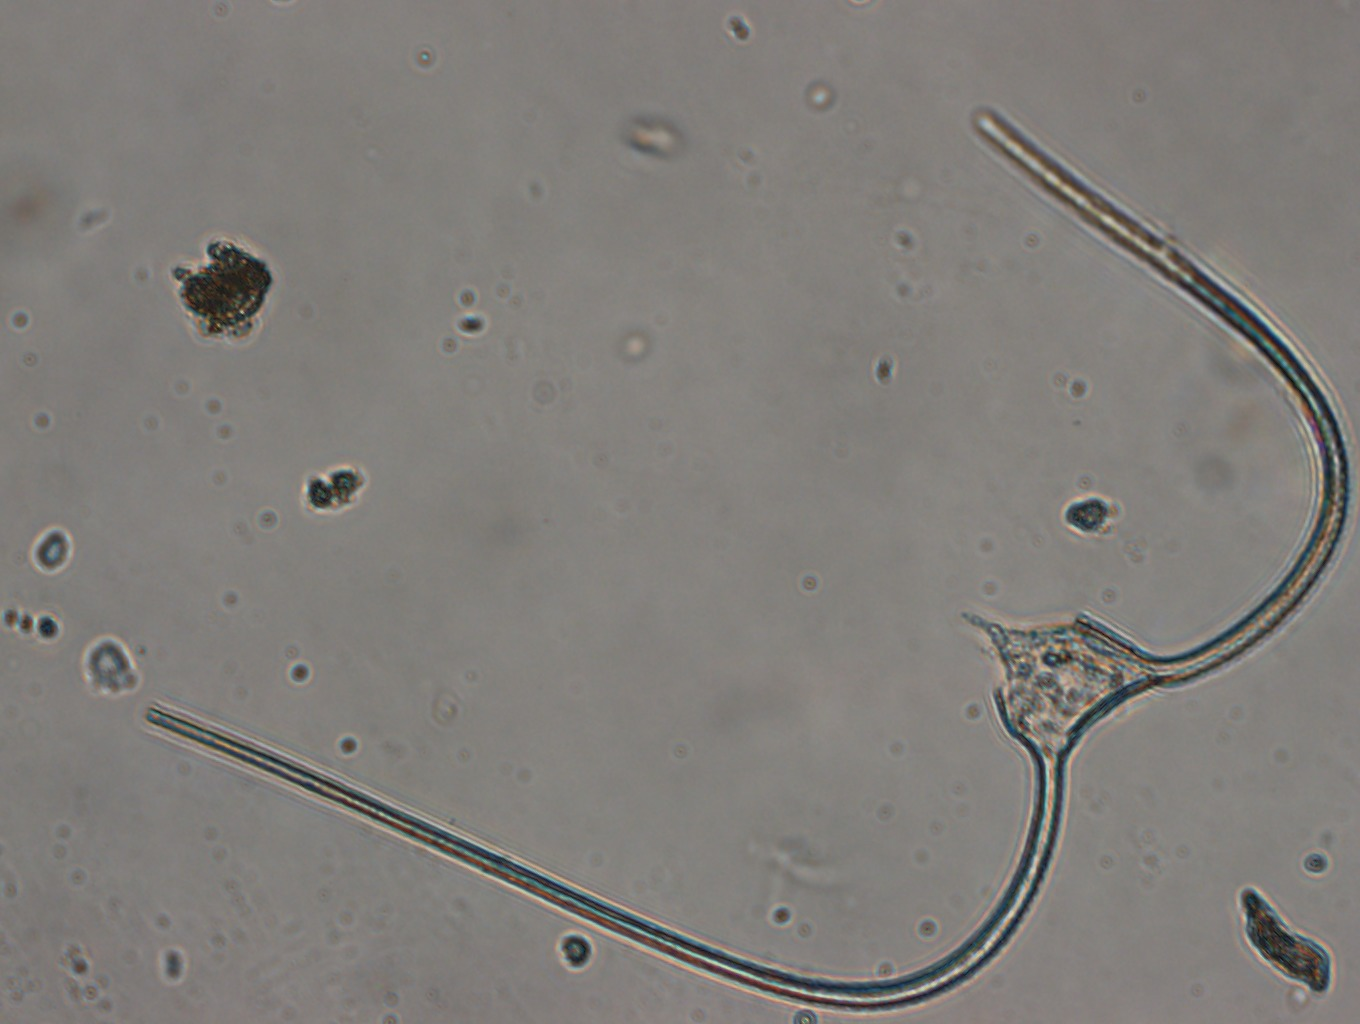ceratium trichoceros: (88, 100, 1360, 1024)
